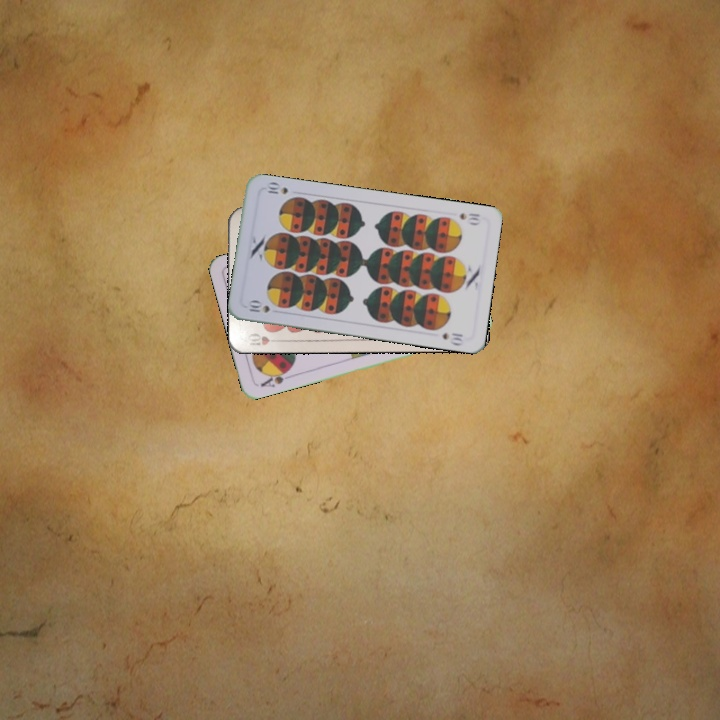H10: (243, 329, 284, 349)
S10: (456, 209, 483, 227), (244, 298, 272, 315)
SA: (256, 365, 295, 390)
